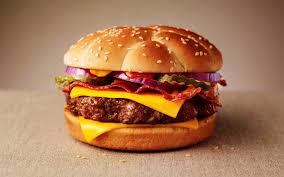hamburger: (54, 20, 229, 152)
